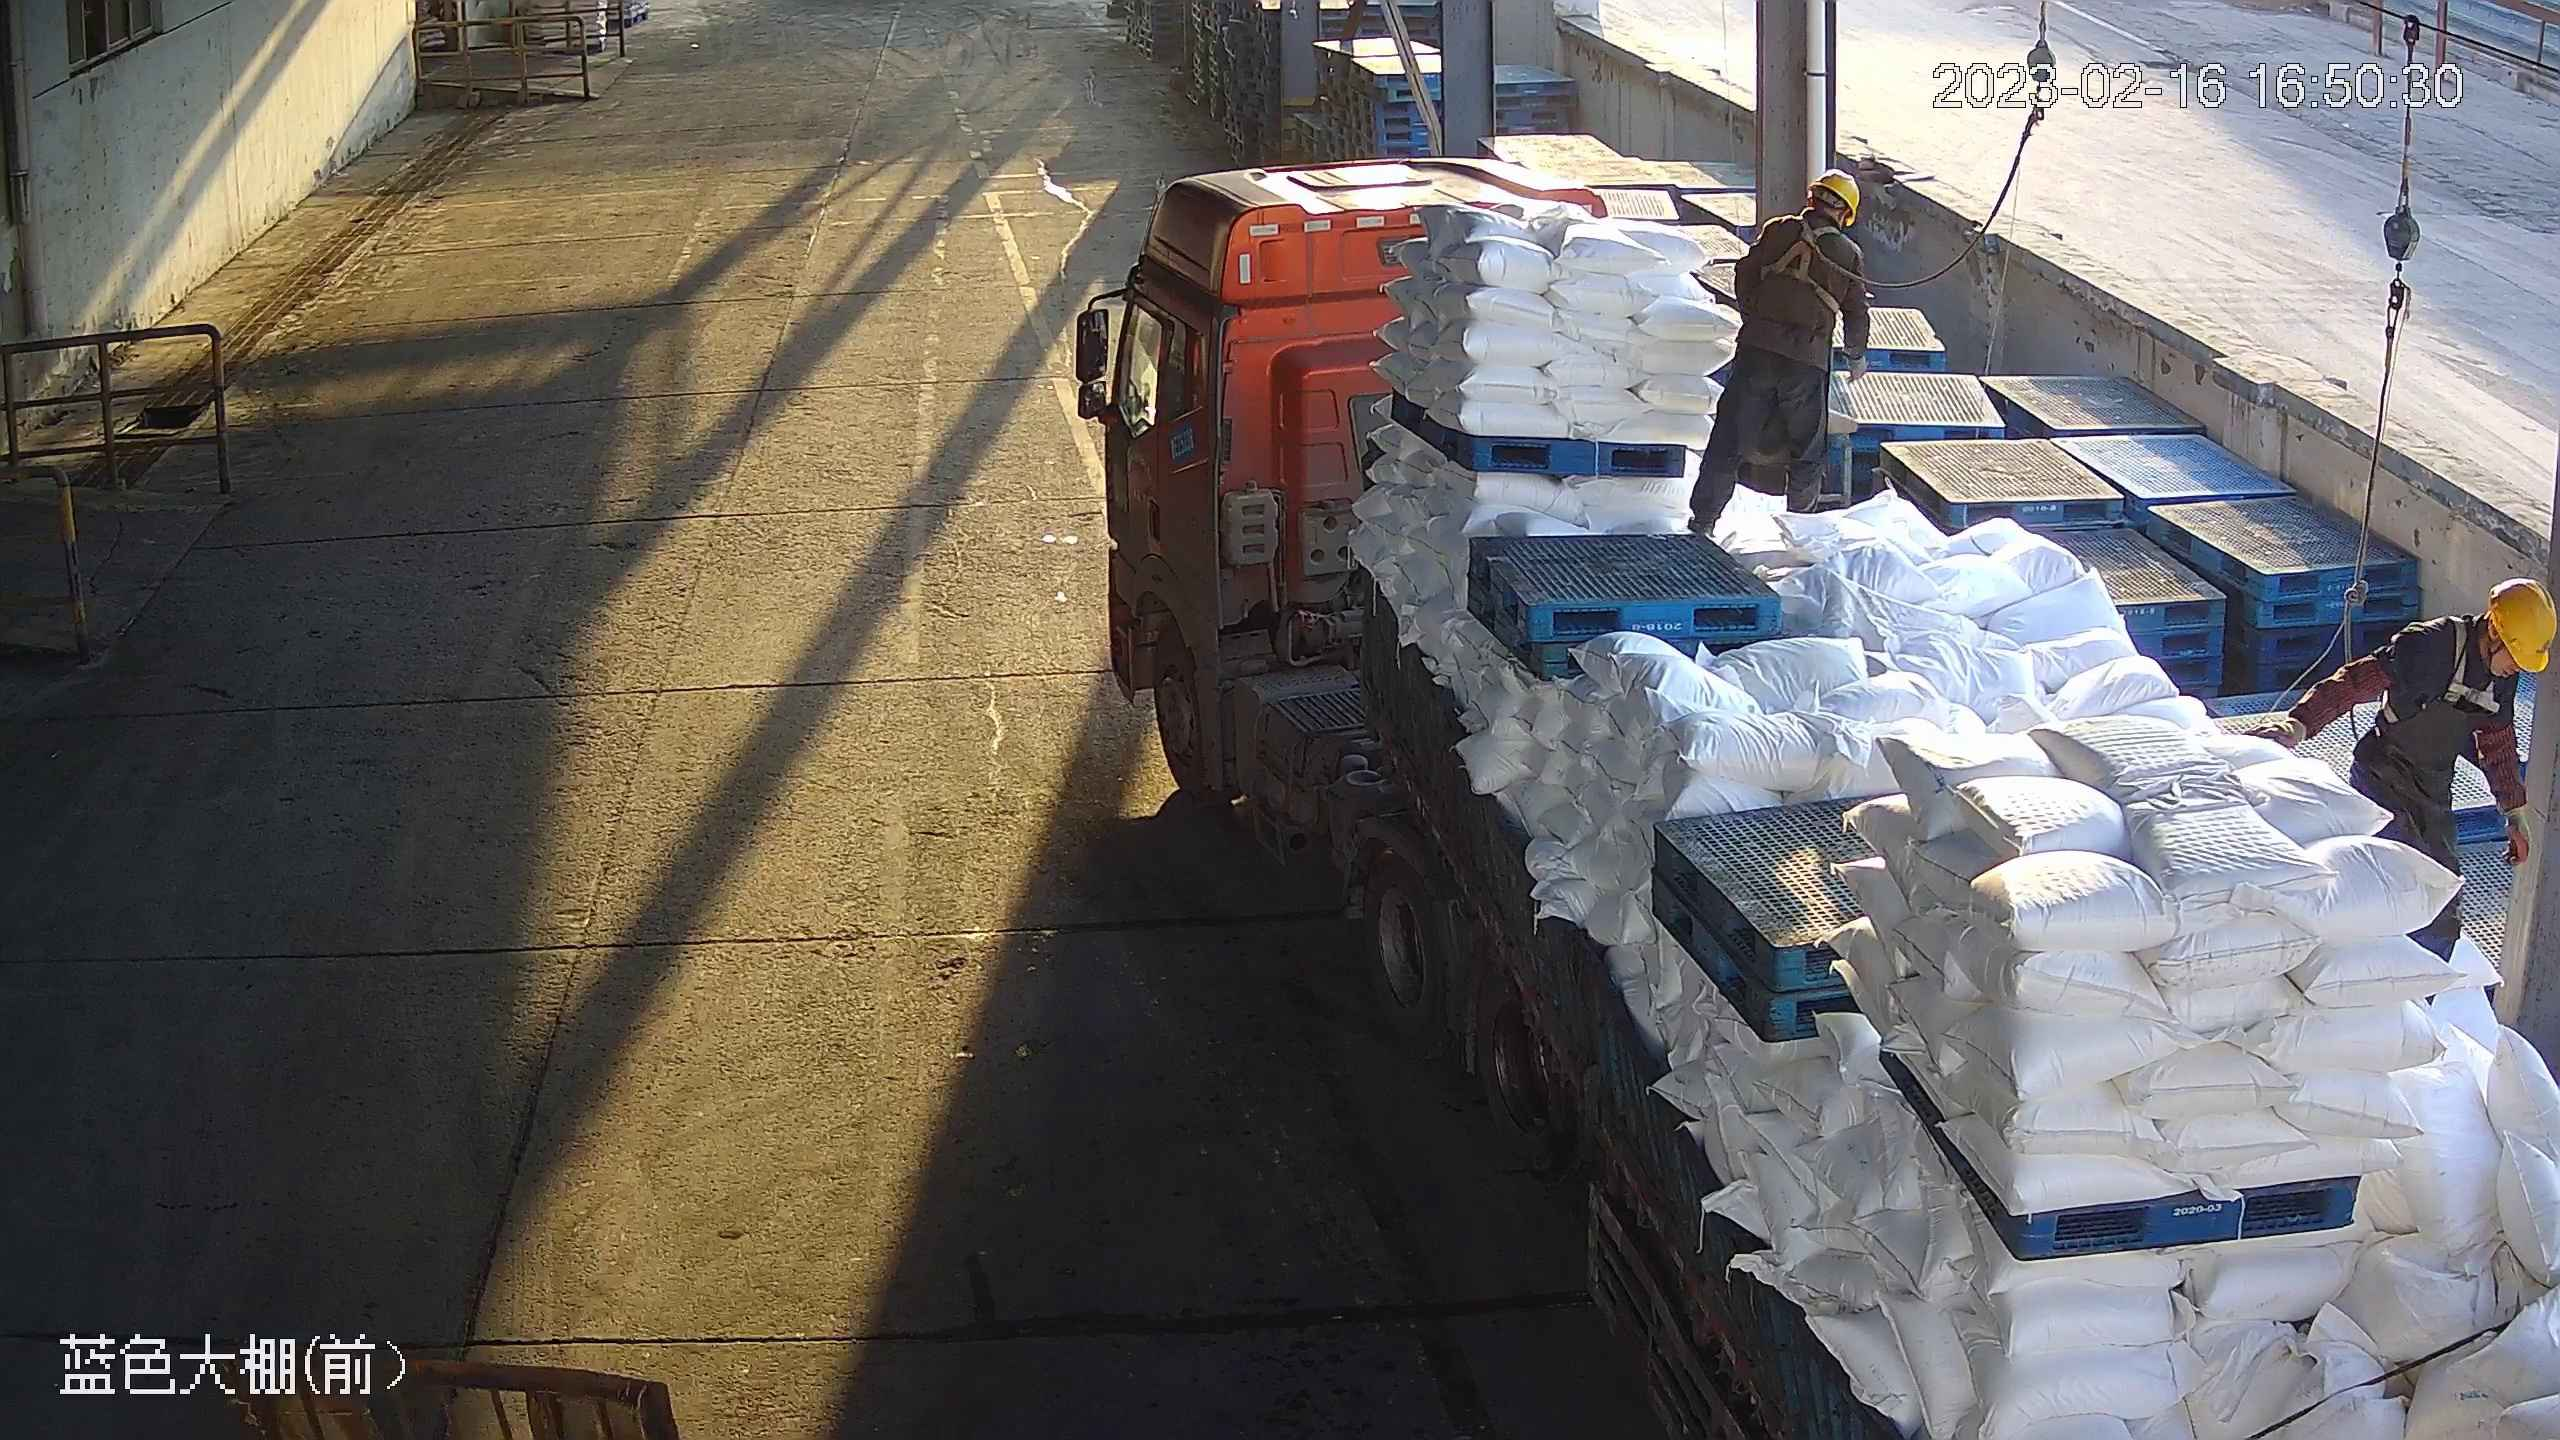belt: (1760, 214, 1843, 314), (2441, 617, 2501, 712)
head: (2393, 578, 2557, 699), (1751, 167, 1866, 268)
helmet: (2487, 578, 2557, 674), (1806, 168, 1862, 228)
people: (2242, 577, 2558, 969), (1686, 167, 1874, 537)
truck: (1075, 154, 2560, 1440)
